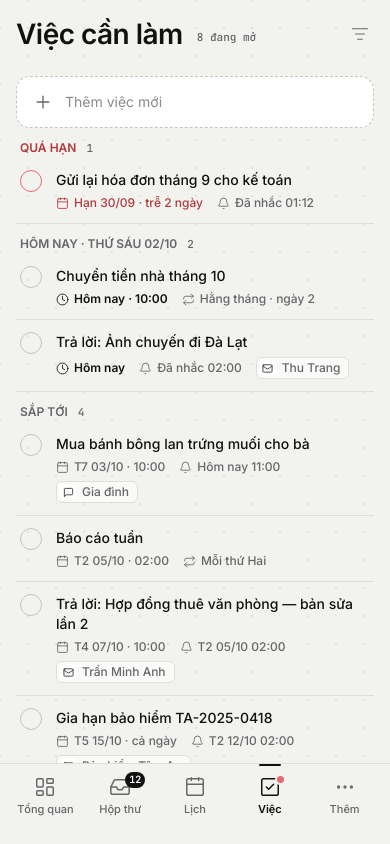
Test case: Việc cần làm on a phone › filters from the "Lọc" menu
The image size is (390, 844).
Click the button named "Lọc" at (360, 34), box x1=338 y1=12 x2=382 y2=56
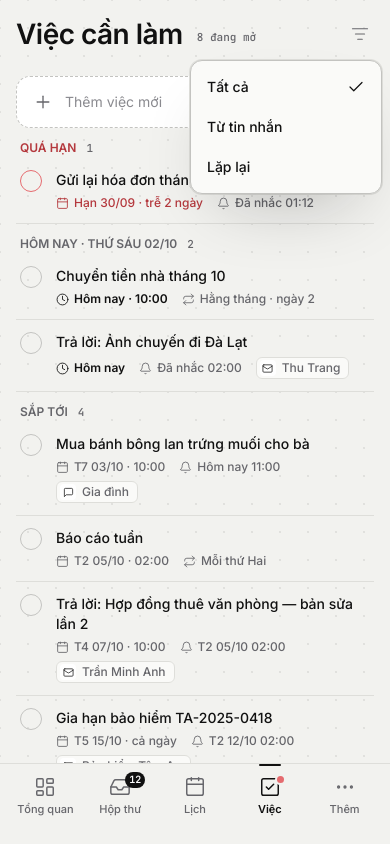
Click the menu item "Từ tin nhắn" at (245, 126), box x1=207 y1=118 x2=282 y2=135
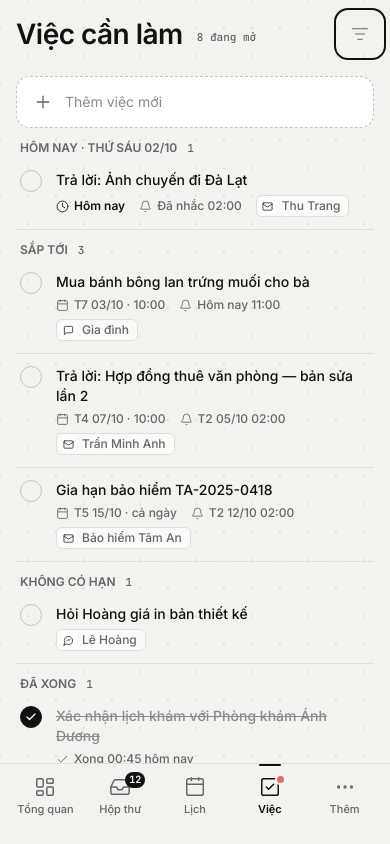
Expected: the button named "Lọc: Từ tin nhắn" is shown, x1=338 y1=12 x2=382 y2=56
